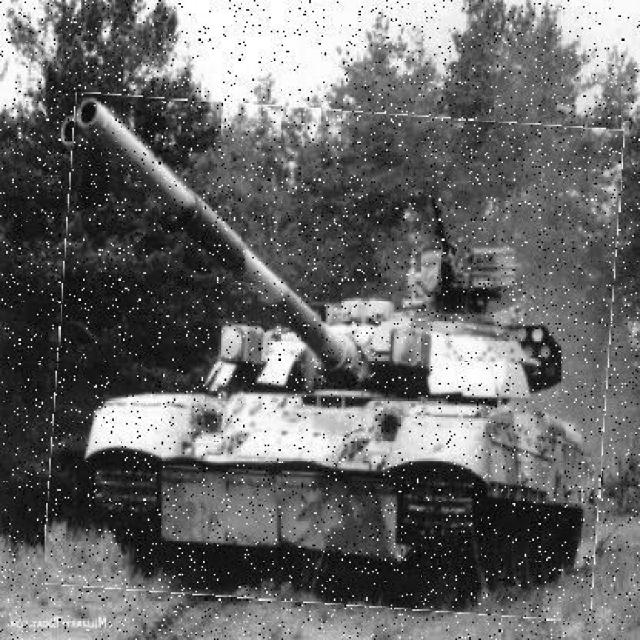Tank: (52, 103, 616, 614)
